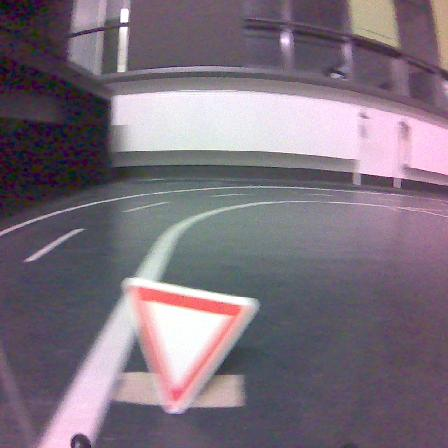GIVE_WAY: (123, 278, 258, 412)
